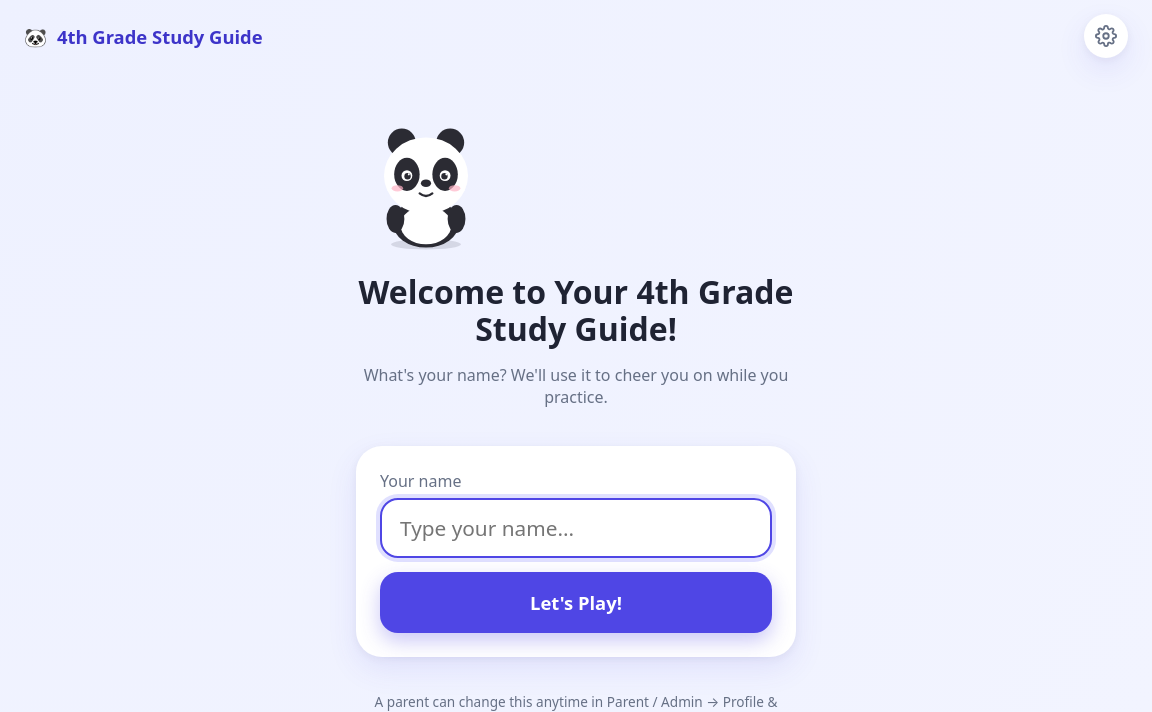
Test: App onboarding gate › personalizes the Home screen once a name is set
Type "Jamie" into the field with placeholder "Type your name..." at (576, 528), box x1=380 y1=498 x2=772 y2=558
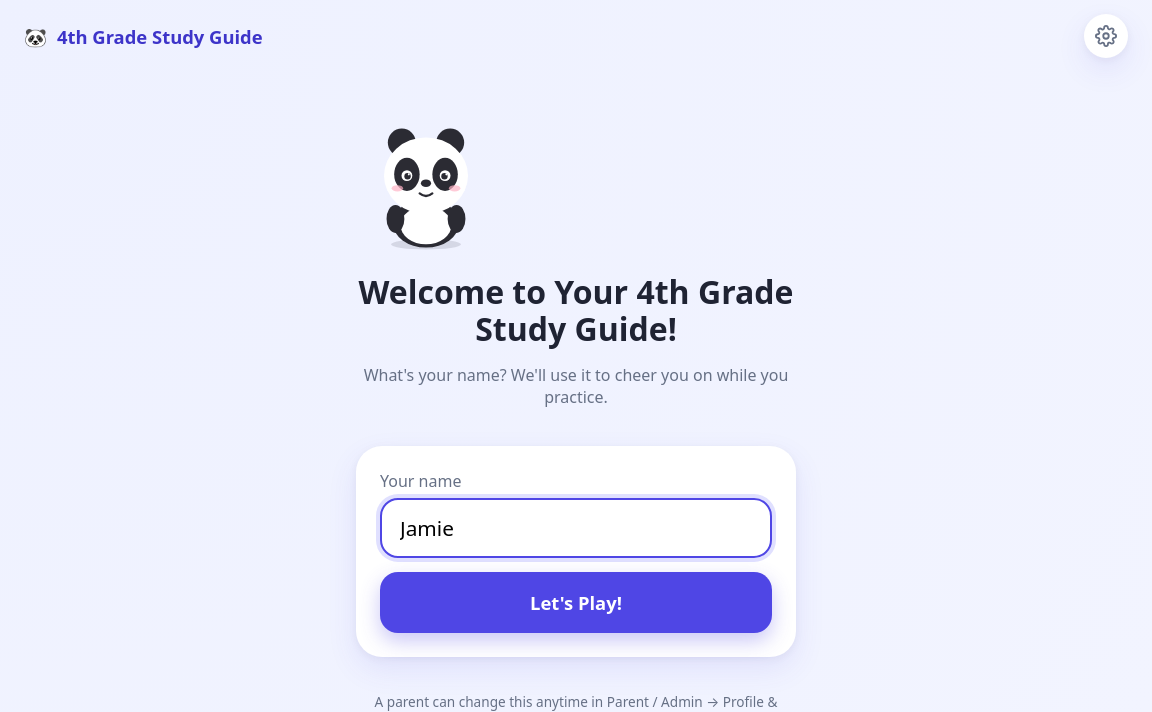
Click the button "Let's Play!" at (576, 602), box x1=380 y1=572 x2=772 y2=633
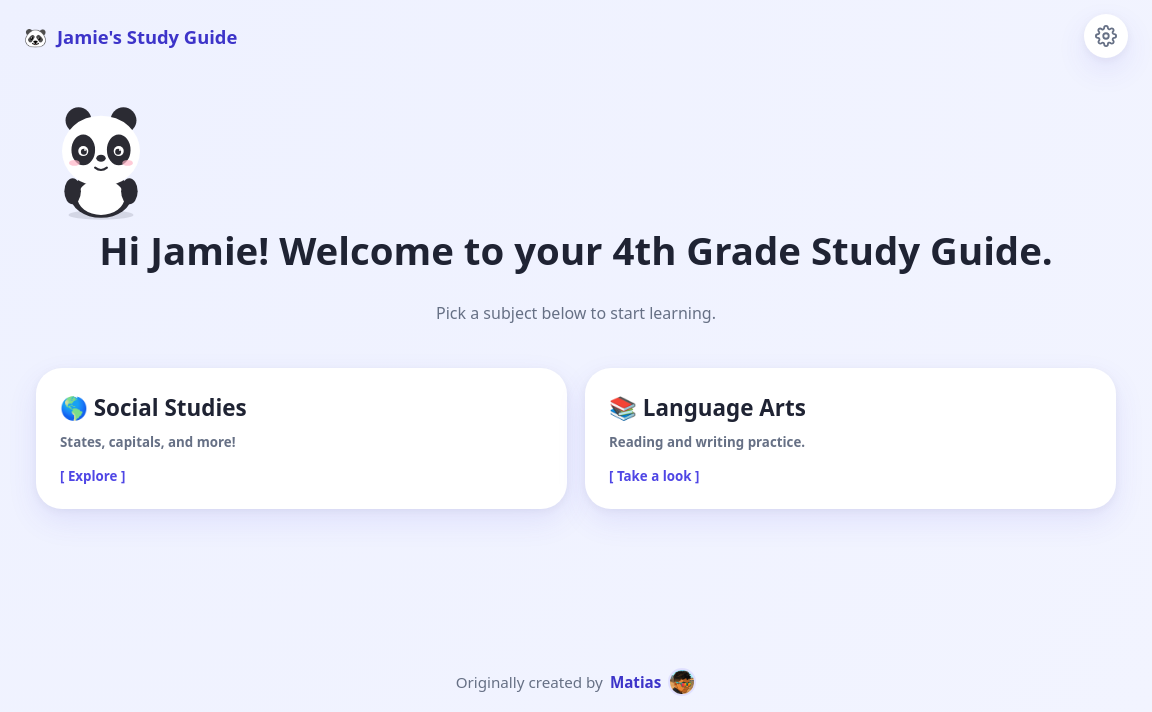
expect the heading "Hi Jamie! Welcome to your 4th Grade Study Guide." is shown: met, box x1=36 y1=228 x2=1116 y2=272
